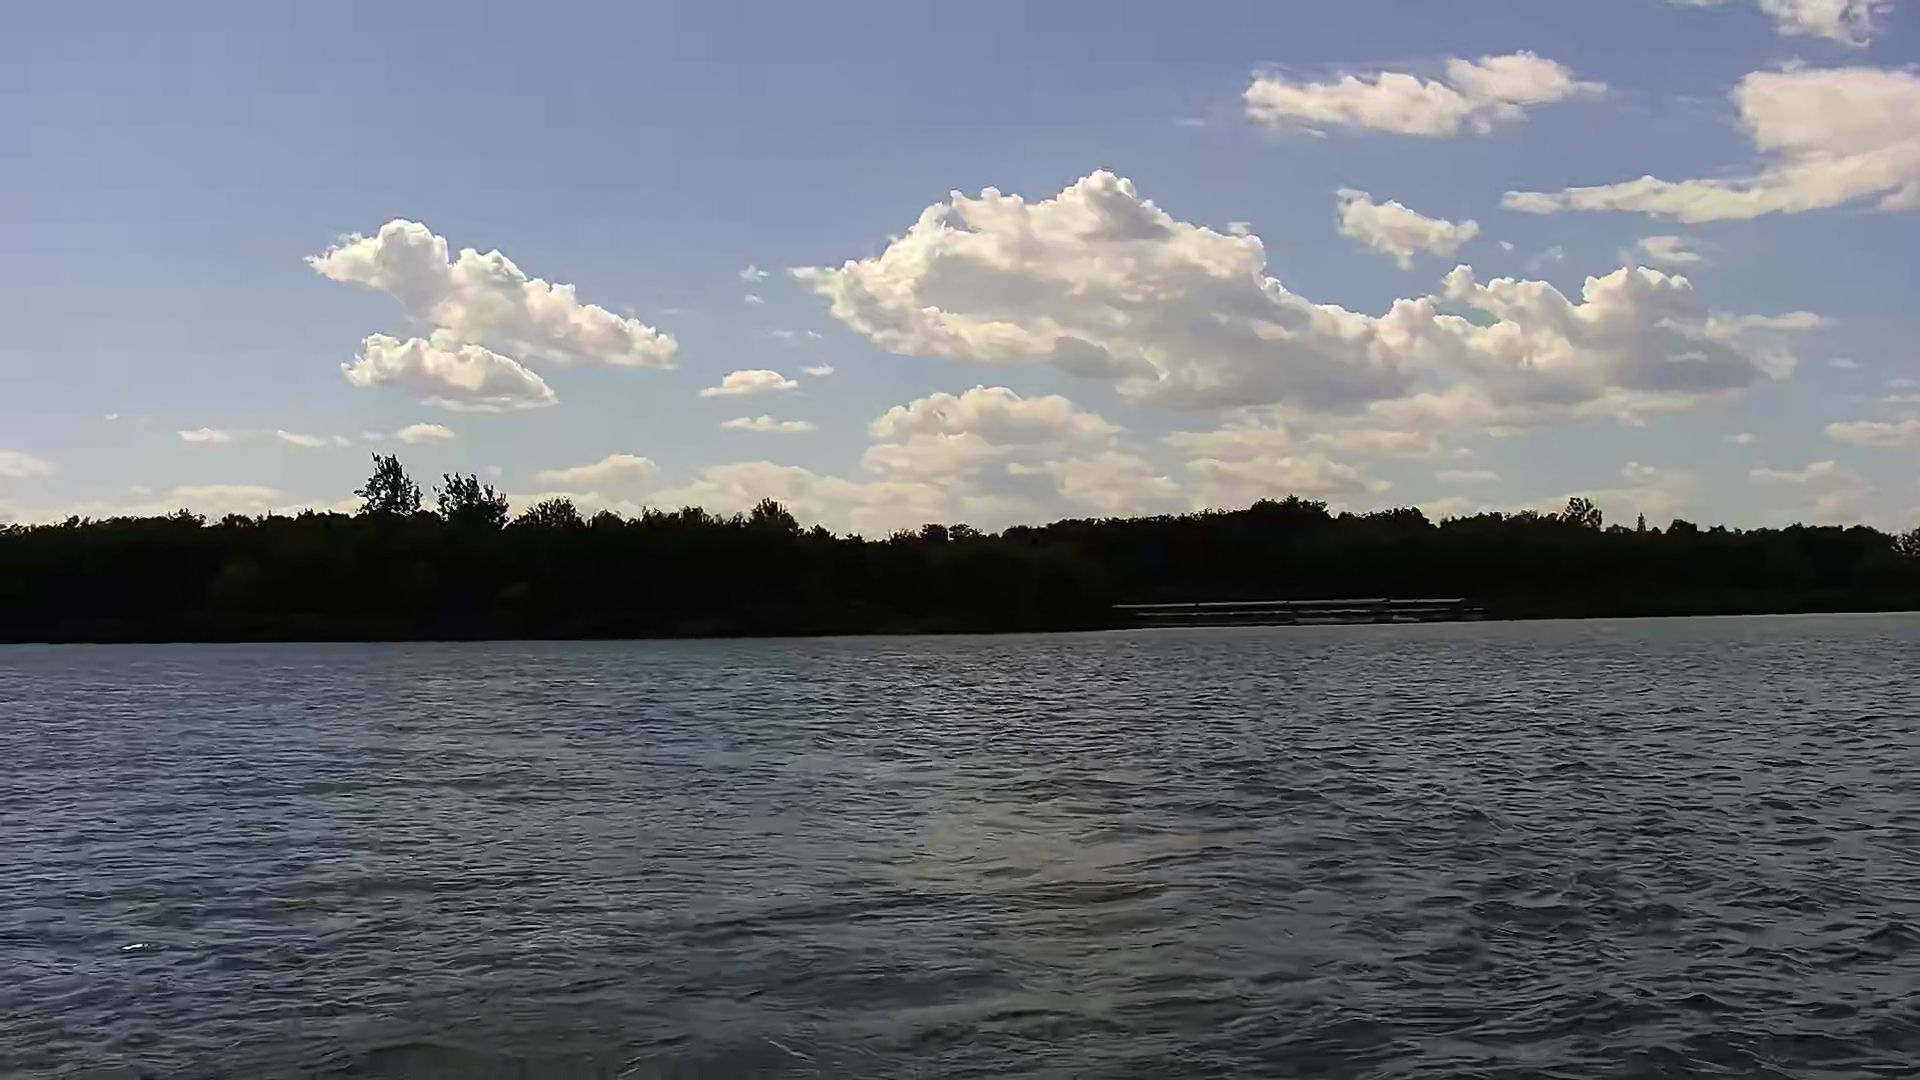harbor: (1116, 597, 1484, 630)
